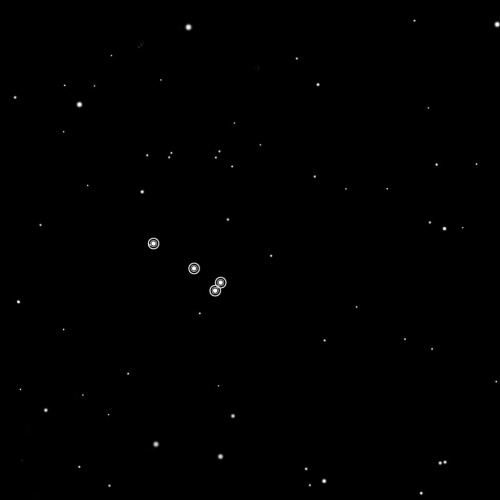sagitta: (138, 232, 232, 301)
